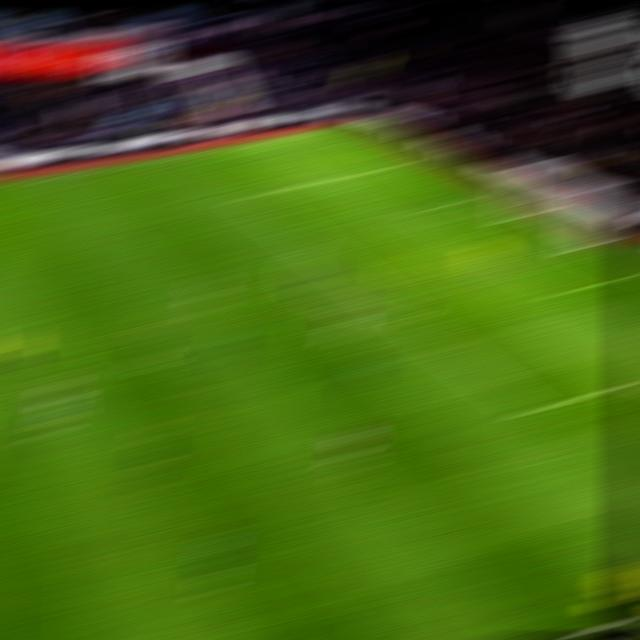bigarea_bottom_inner: (513, 400, 552, 422)
bigarea_top_inner: (229, 188, 263, 203)
bigarea_top_outter: (387, 157, 419, 169)
bottom_arc_area_intersection: (391, 311, 428, 327)
corner: (317, 123, 351, 134)
smallarea_bottom_inner: (545, 282, 583, 302)
smallarea_bottom_outter: (610, 266, 640, 282)
smallarea_top_inner: (402, 204, 437, 217)
smallarea_top_outter: (455, 190, 491, 204)
top_arc_area_intersection: (292, 237, 325, 250)
